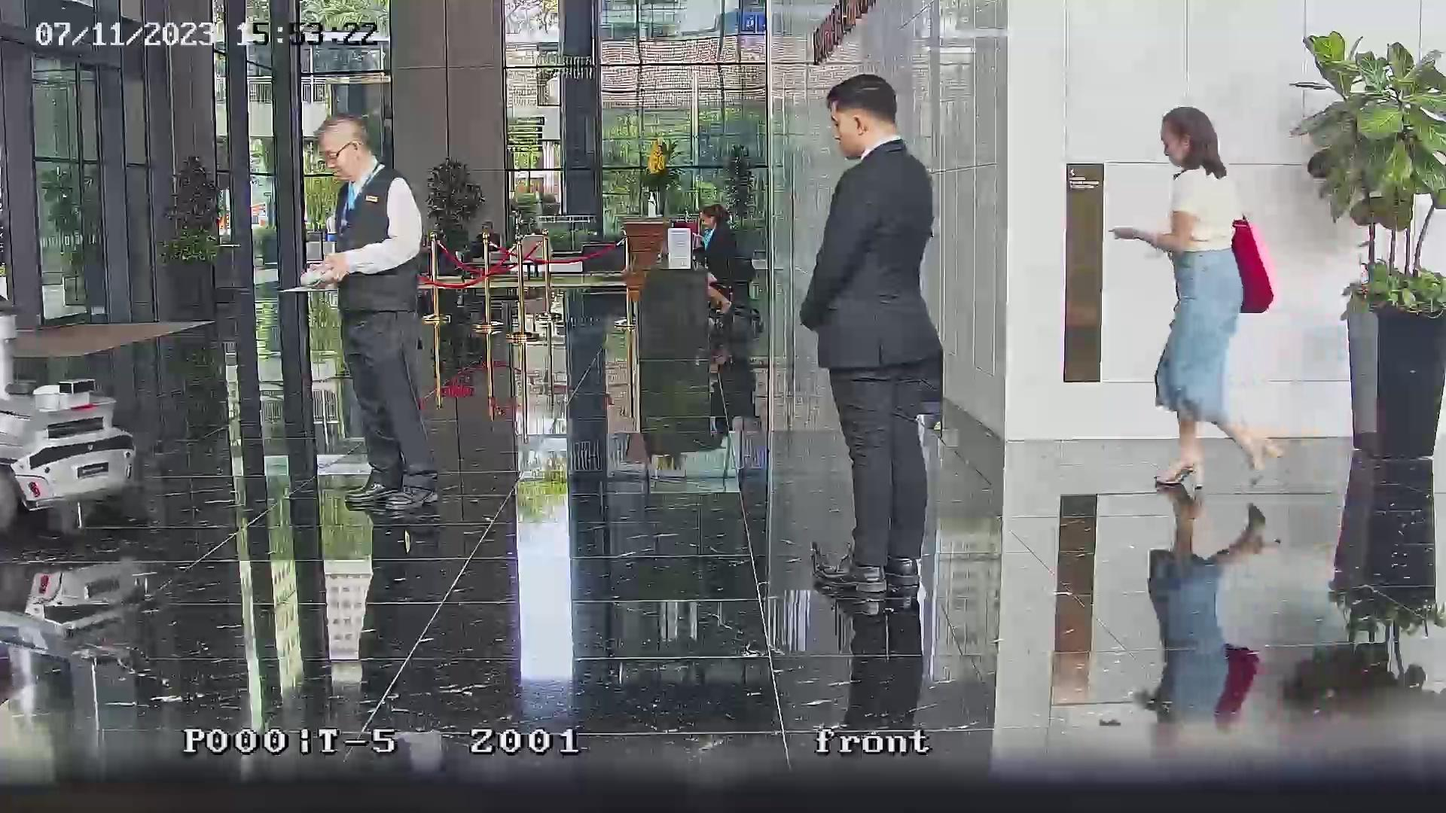person: (798, 74, 943, 614), (1109, 105, 1287, 494), (311, 111, 441, 514), (694, 202, 740, 286), (465, 220, 499, 256)
